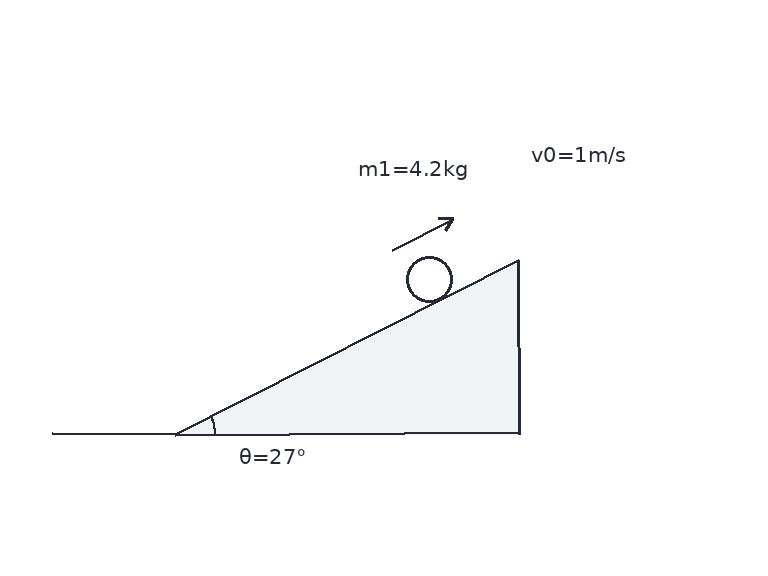ball: (404, 254, 454, 304)
ramp: (173, 257, 520, 436)
